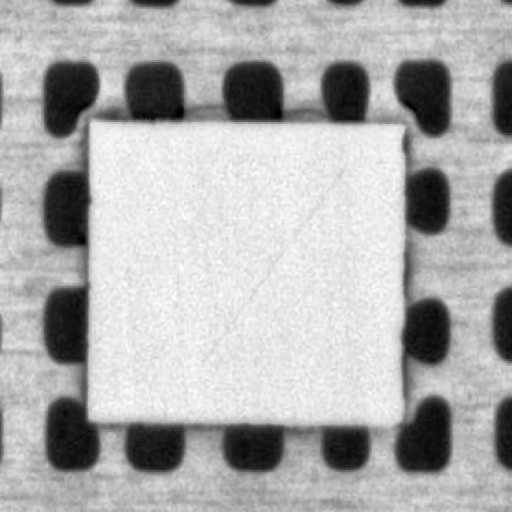DIE_CRACK: (268, 125, 455, 270)
